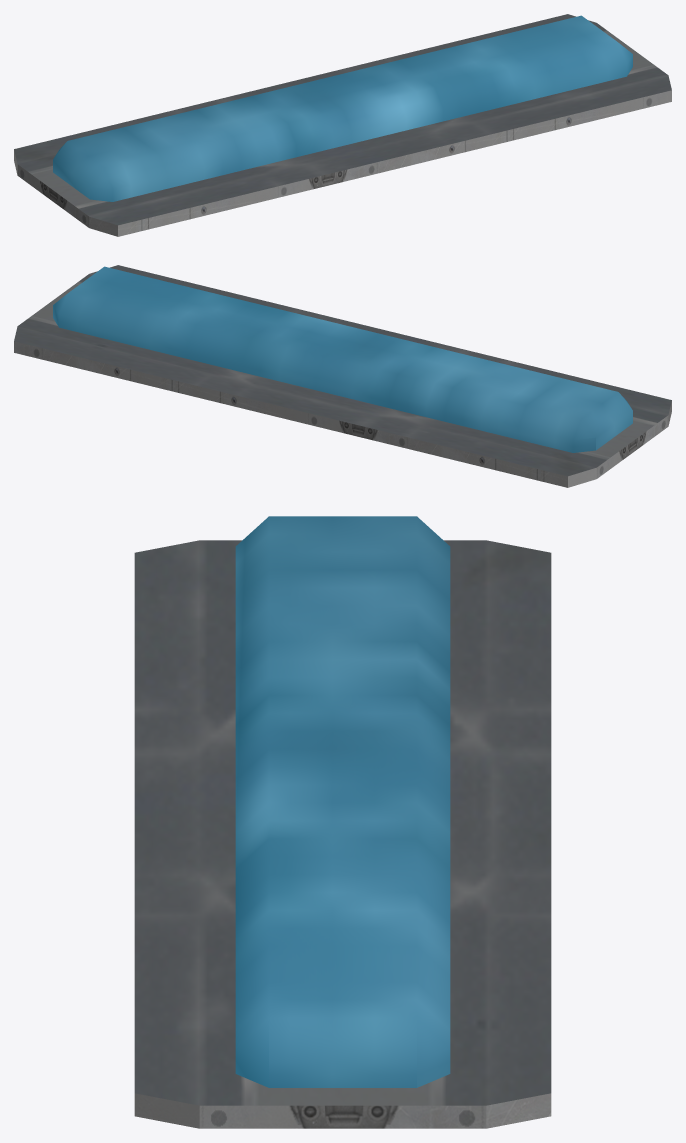
File: SM_Light1vsa.fbx
3 views of the same model, one above another, from view 1: azimuth 30°, elevation 25°; view 2: azimuth 150°, elevation 25°; view 3: azimuth 270°, elevation 25° (orthographic). The views are drawn at different scales.
Parts seen in each view (by area): view 1: SM_Light1vsa_LOD0; view 2: SM_Light1vsa_LOD0; view 3: SM_Light1vsa_LOD0.
Boxes of the visible parts, <box> form: SM_Light1vsa_LOD0: <box>14,14,671,236</box>; SM_Light1vsa_LOD0: <box>14,265,671,487</box>; SM_Light1vsa_LOD0: <box>134,516,551,1128</box>.
Size of the model in its own units: 20 by 6.23 by 1.3.
Materials: 3 (3 with a texture image).
